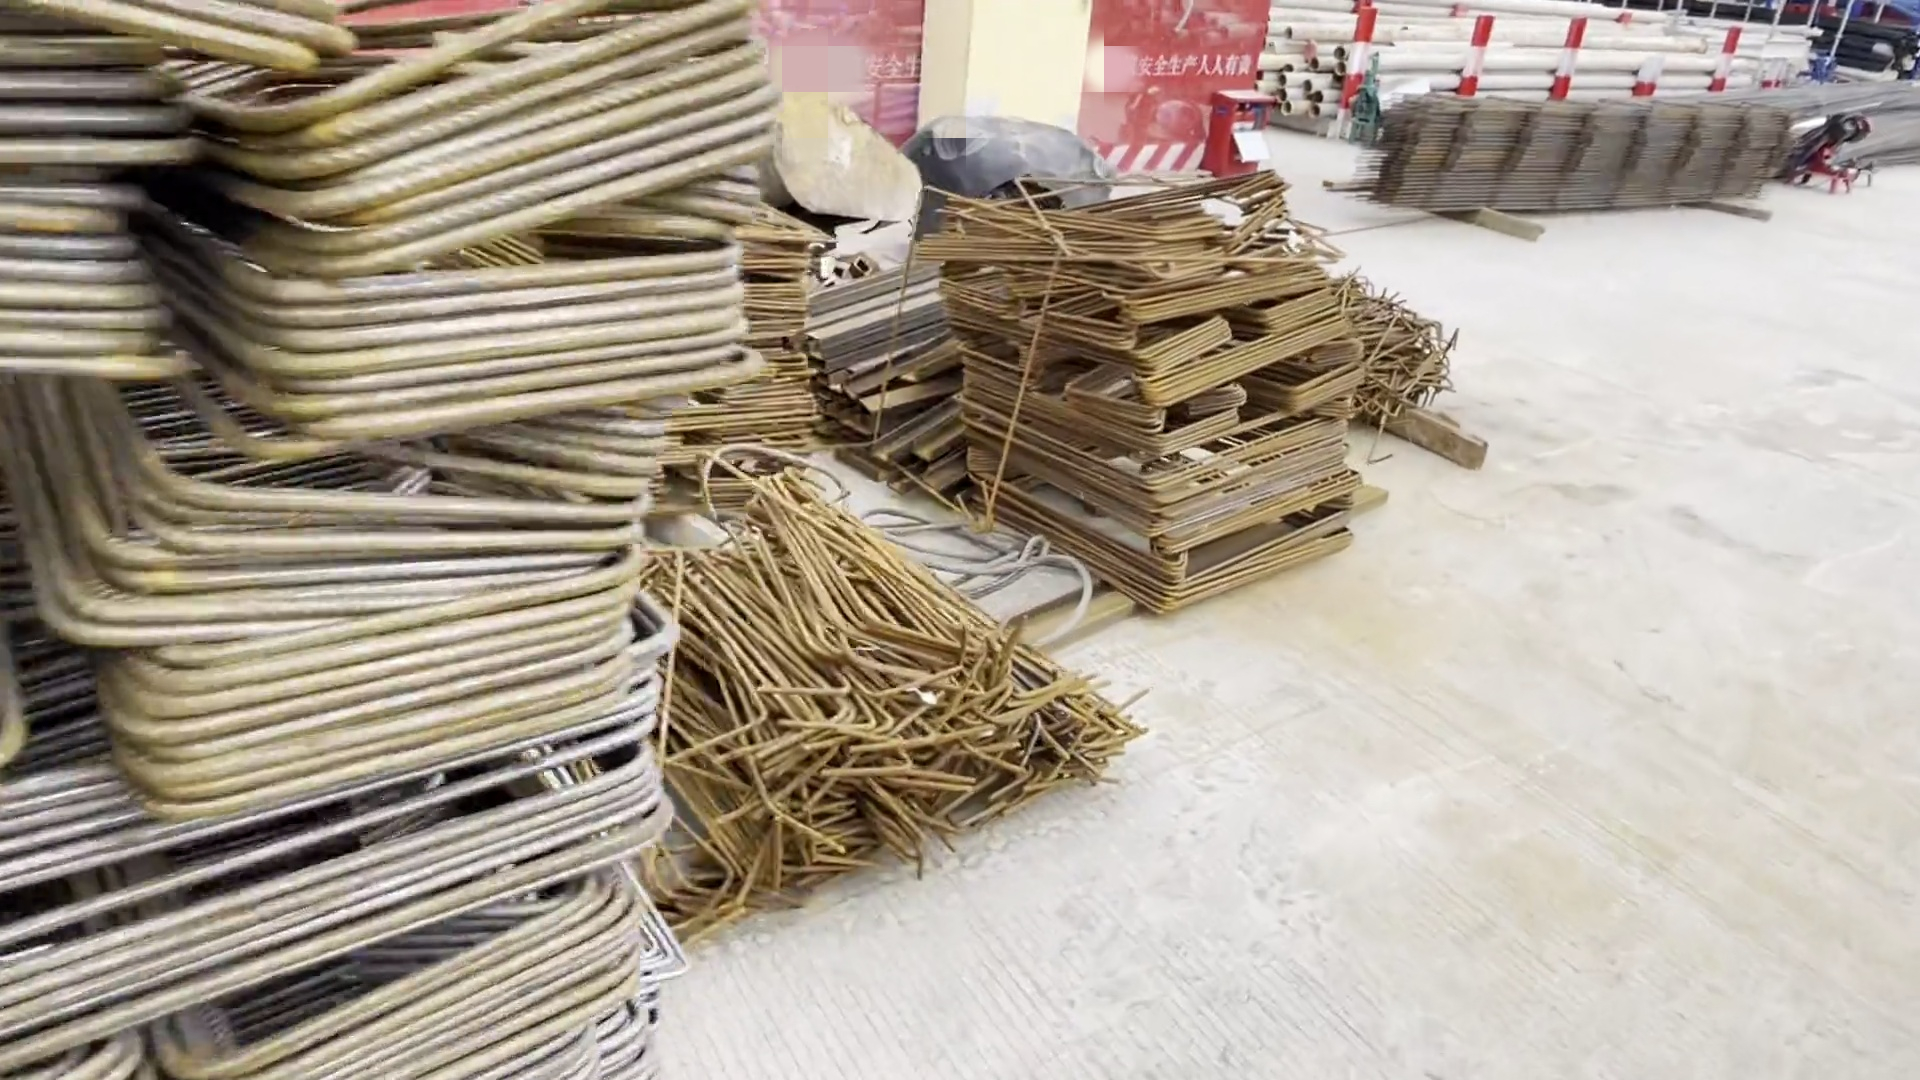ebox: (926, 5, 1088, 138)
fence: (769, 8, 1261, 145)
rebar: (1374, 103, 1775, 214), (1704, 84, 1920, 156)
